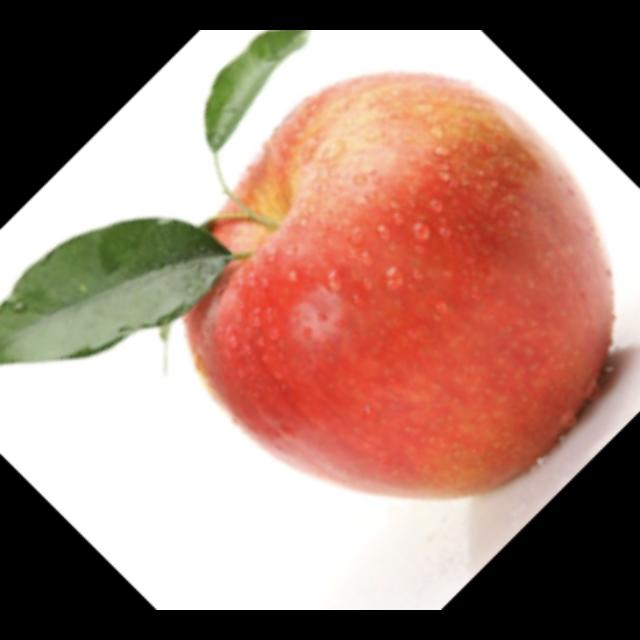Apel Segar: (174, 64, 628, 514)
